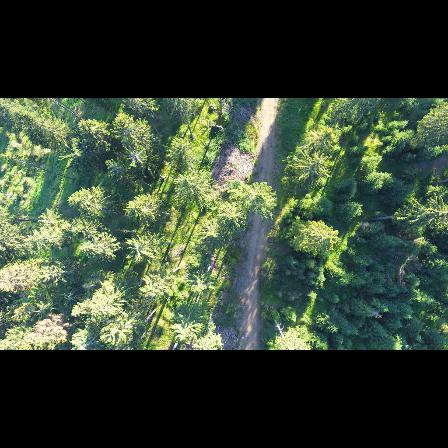Sick: (122, 144, 149, 167)
